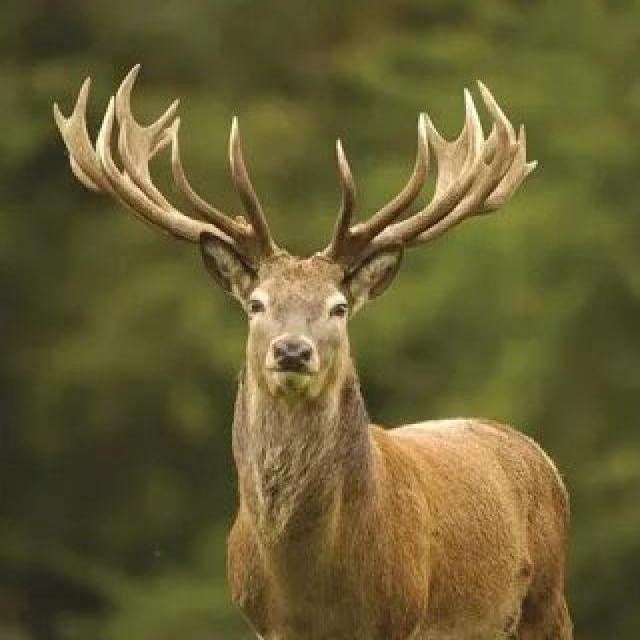deer: (135, 136, 588, 640)
